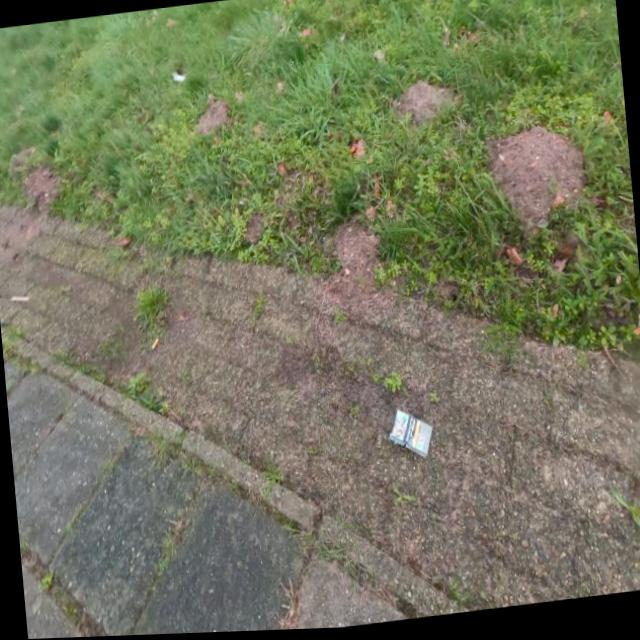Paper: (384, 403, 436, 467)
